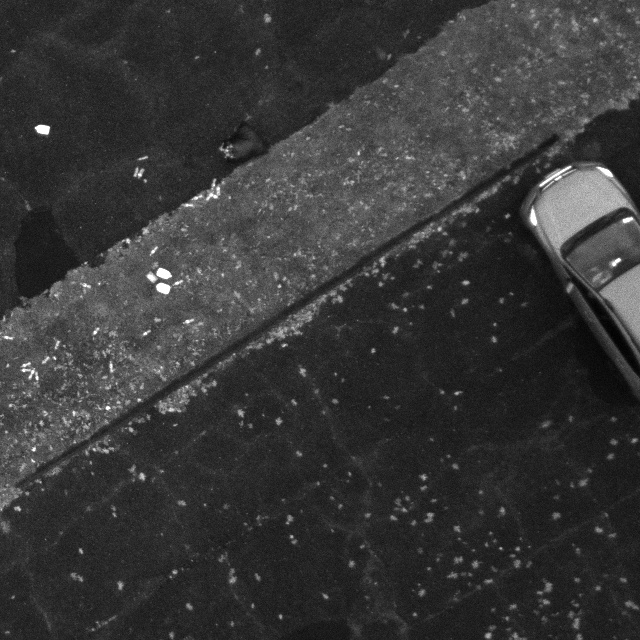bottle: (148, 243, 160, 258), (106, 359, 116, 375), (171, 278, 185, 289), (139, 328, 153, 339), (78, 282, 94, 291), (136, 166, 146, 180), (182, 317, 196, 326), (40, 354, 51, 365), (204, 190, 214, 202), (179, 201, 194, 209), (91, 326, 101, 338), (136, 153, 149, 162), (53, 339, 62, 352), (209, 177, 217, 191), (192, 193, 204, 202), (207, 192, 218, 200), (133, 166, 140, 178), (215, 183, 220, 197)
can: (32, 121, 51, 138), (154, 266, 174, 282), (156, 282, 172, 296)
container: (144, 269, 159, 285)
